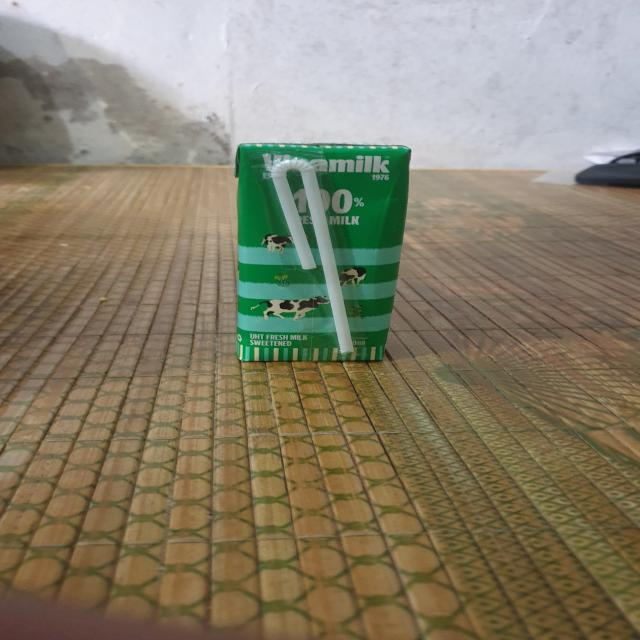Vina: (230, 138, 416, 367)
